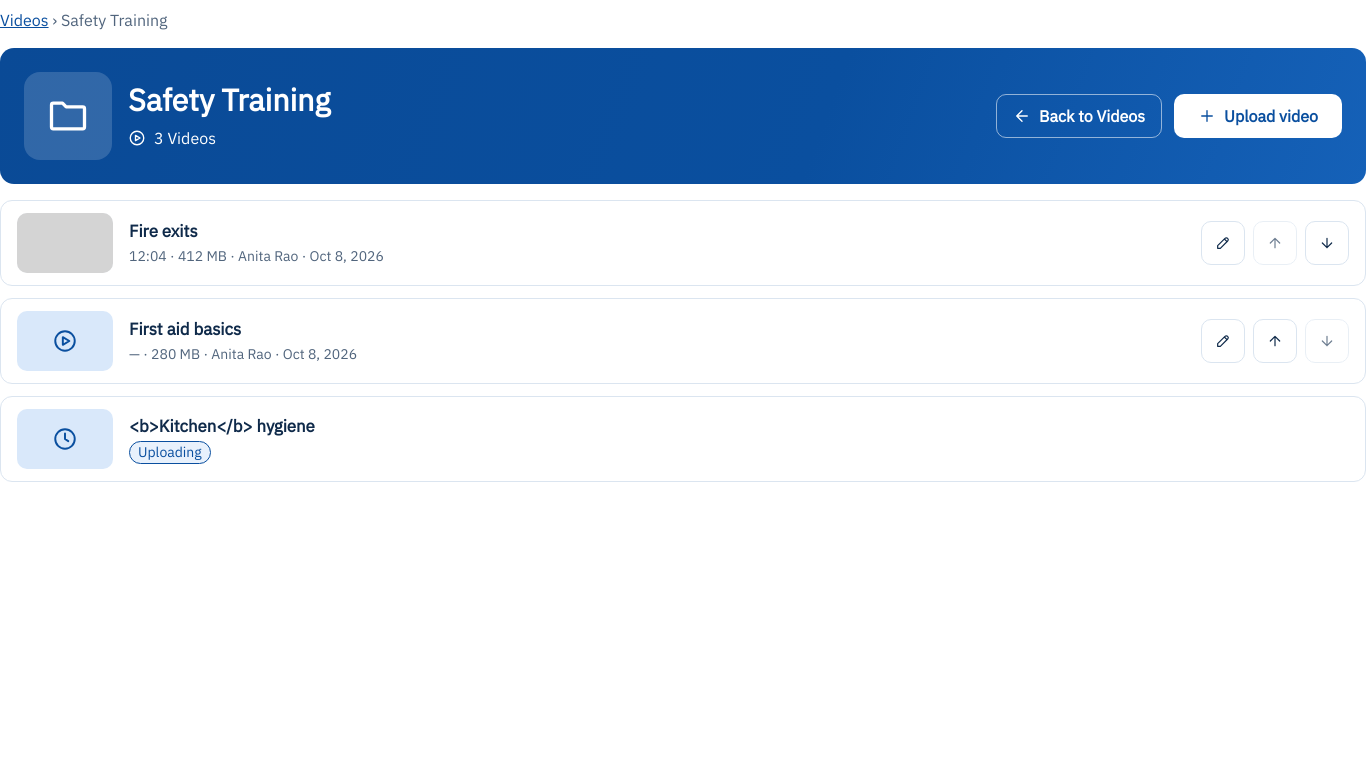
Test: FolderPage › edits the title and description and shows the result
This screenshot has width=1366, height=768.
Click the button named "Edit Fire exits". click: coordinates (1223, 243)
box: [1201, 221, 1245, 265]
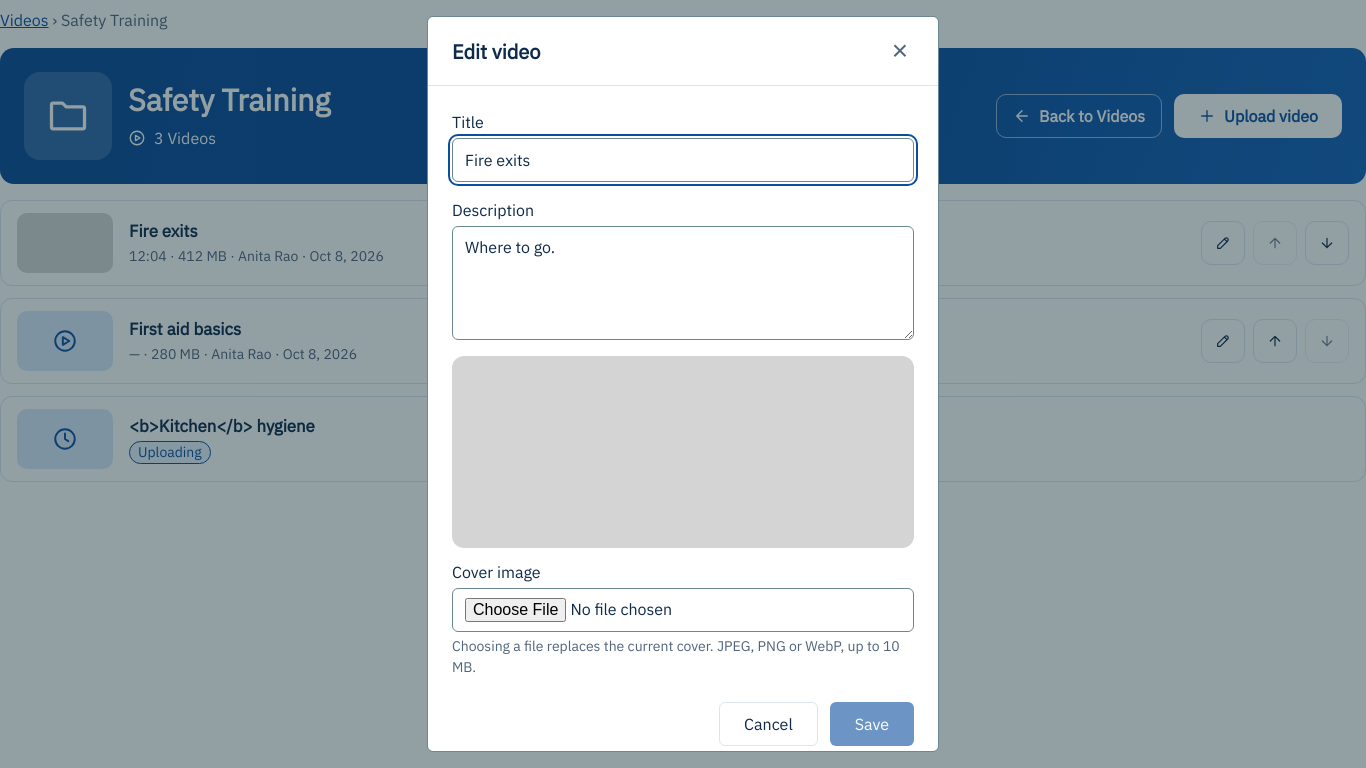
Expected: the field labelled "Title" holds "Fire exits"
Replace the text in the field labelled "Title" with "Fire exits and drills". click: coordinates (683, 160)
box: [452, 138, 914, 182]
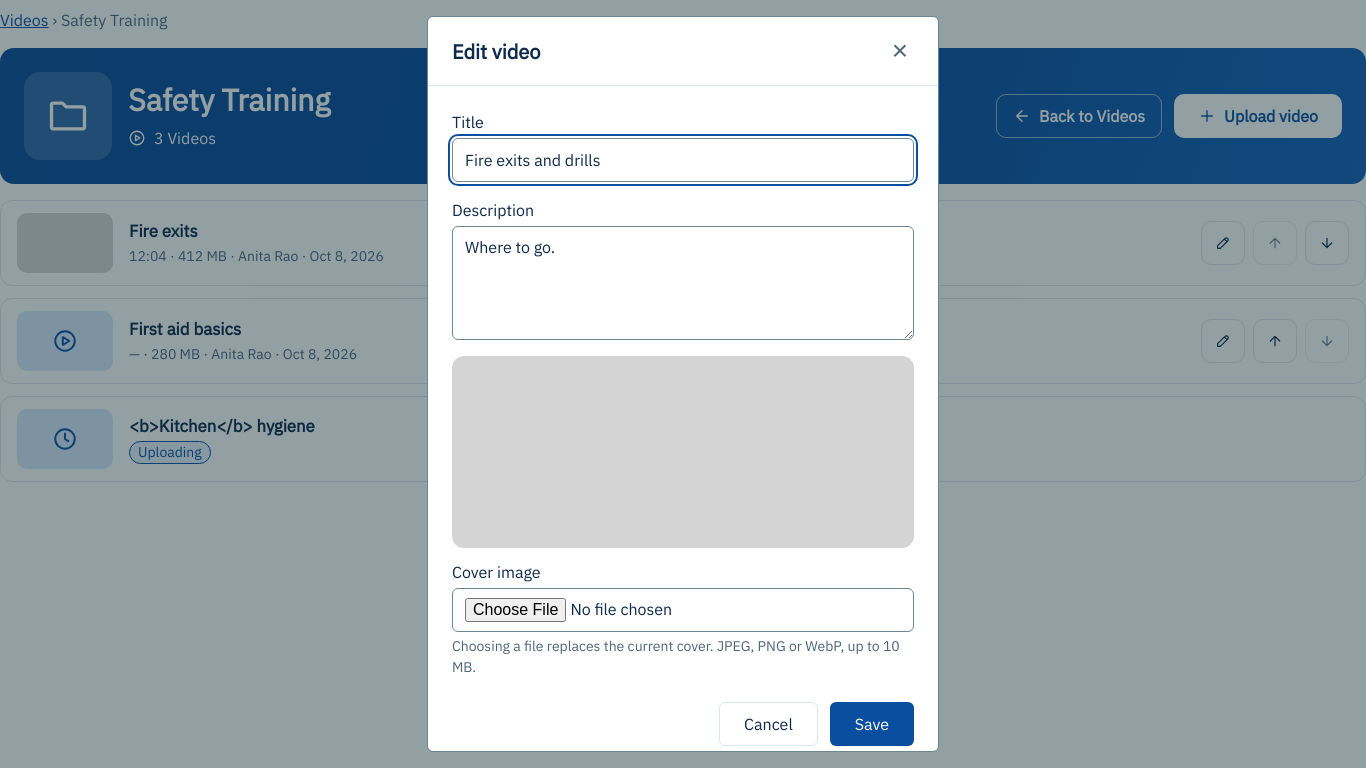
Click the button "Save". click: coordinates (872, 724)
box: [830, 702, 914, 746]
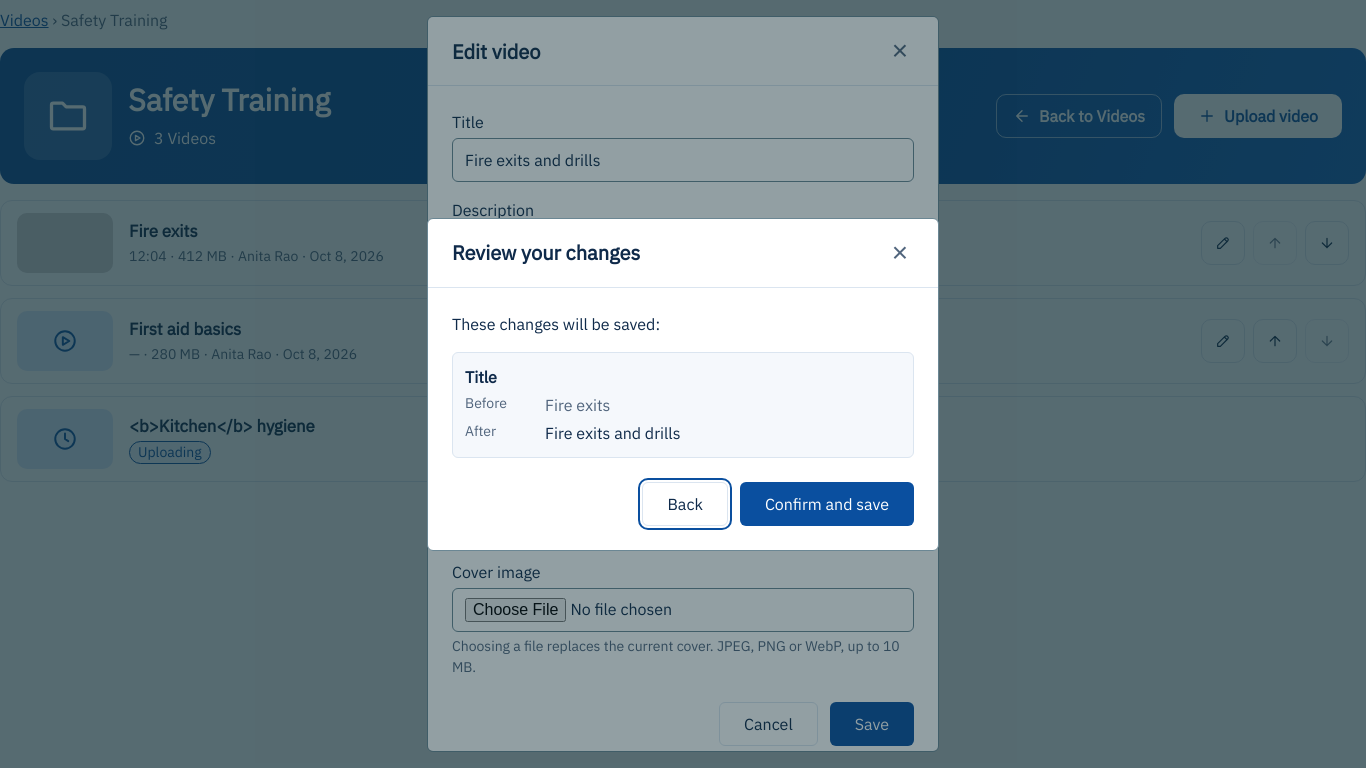
Click the button "Confirm and save". click: coordinates (827, 504)
box: [740, 482, 914, 526]
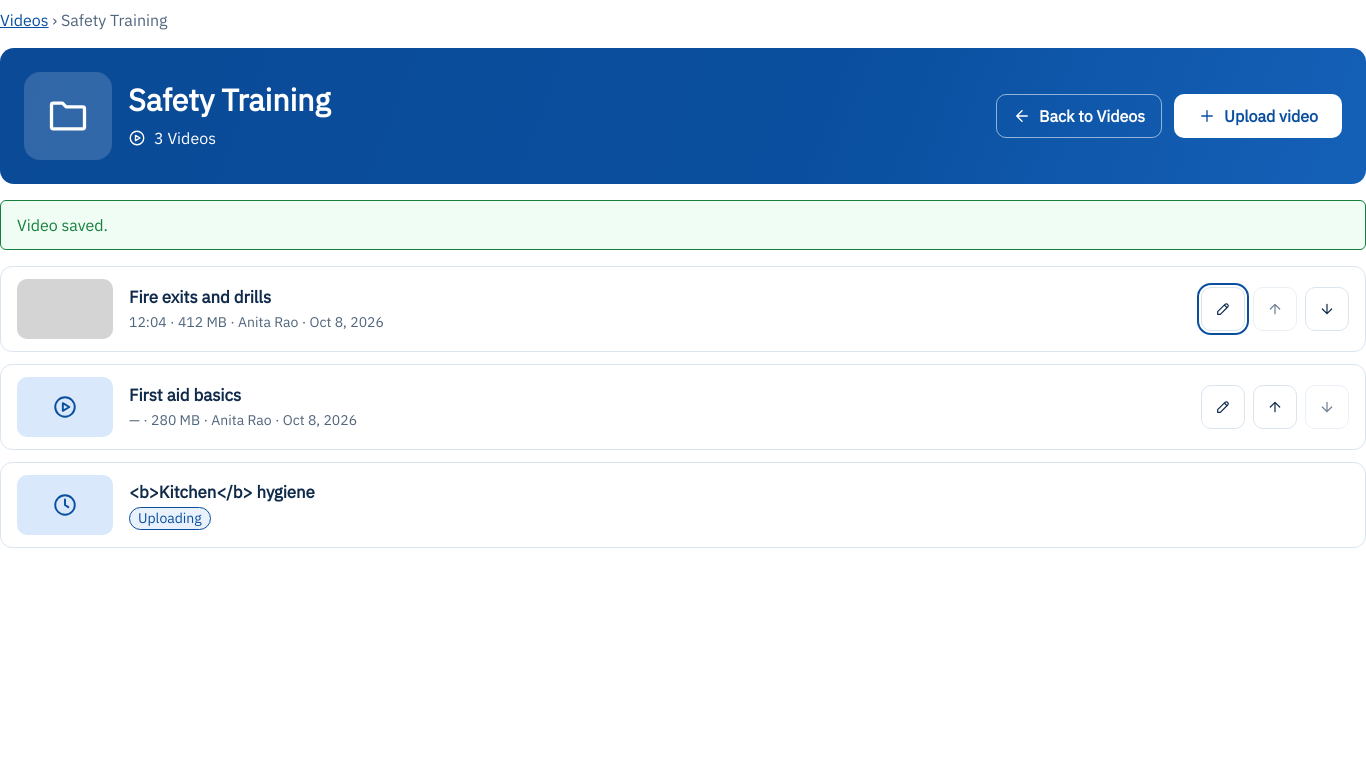
Expected: the button "Fire exits and drills" is shown, [129, 285, 1185, 310]
